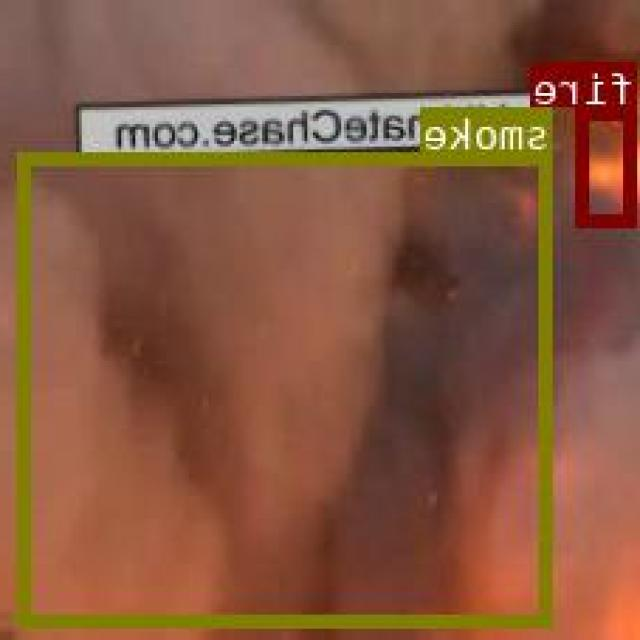fire: (578, 107, 639, 225)
smoke: (22, 152, 553, 623)
